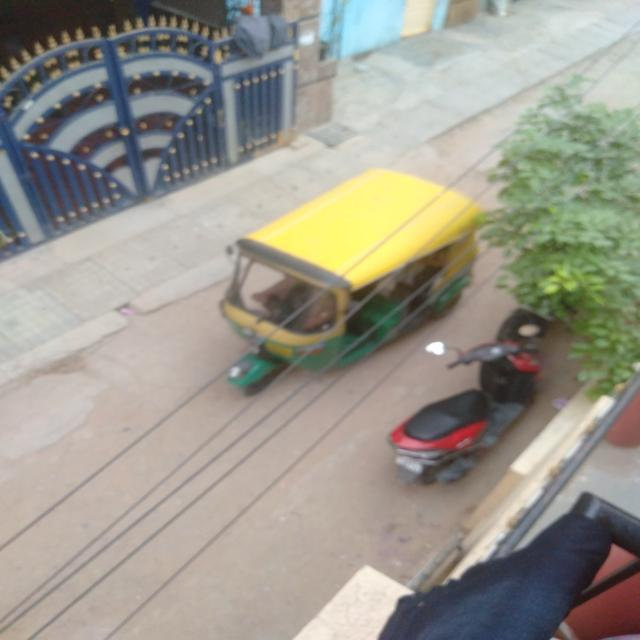auto_front: (210, 158, 487, 400)
